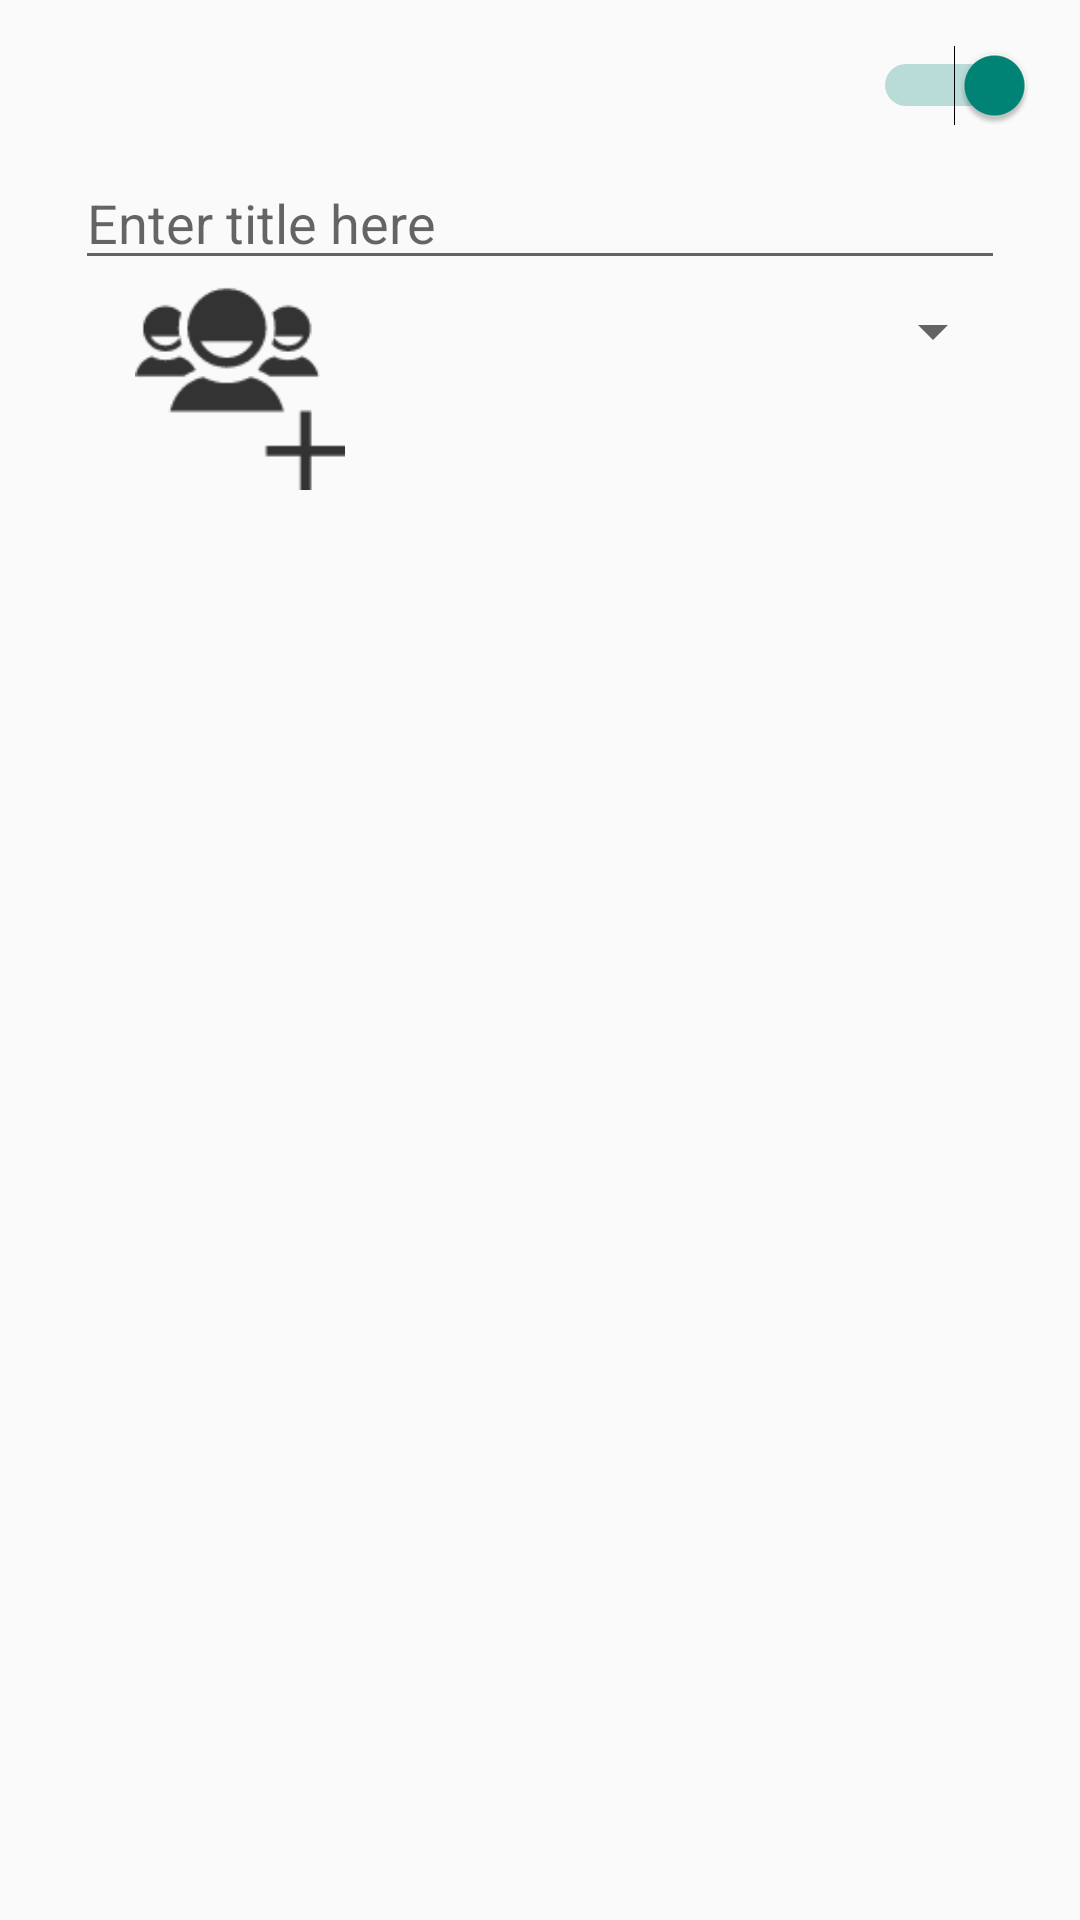

Icon bounding boxes for this 1080 x 1920 phone screenshot, format (x1, y1, x2, y2):
contacts: (135, 288, 345, 490)
